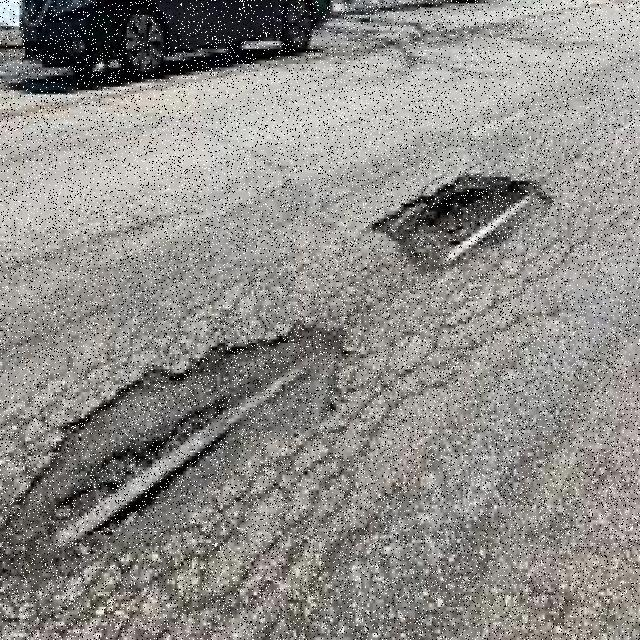pothole: (5, 324, 347, 569), (367, 177, 550, 271)
